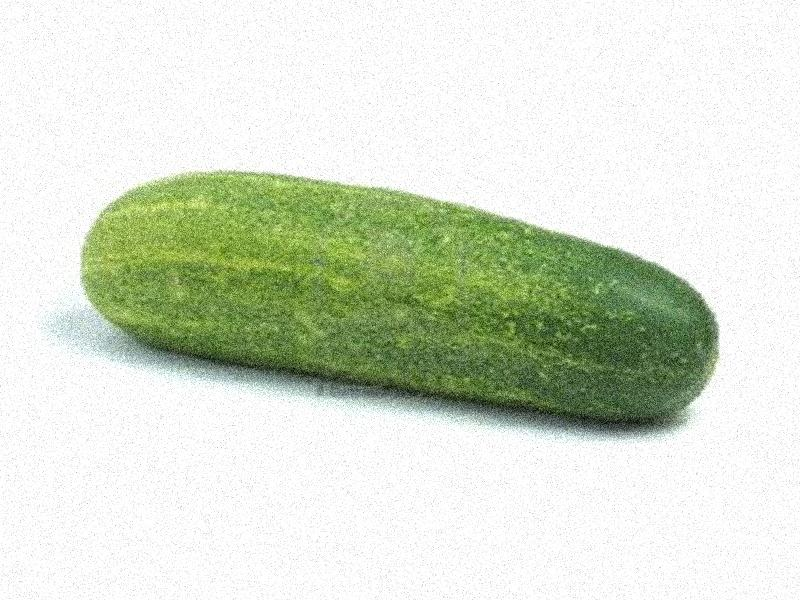Cucumber: (81, 172, 715, 423)
